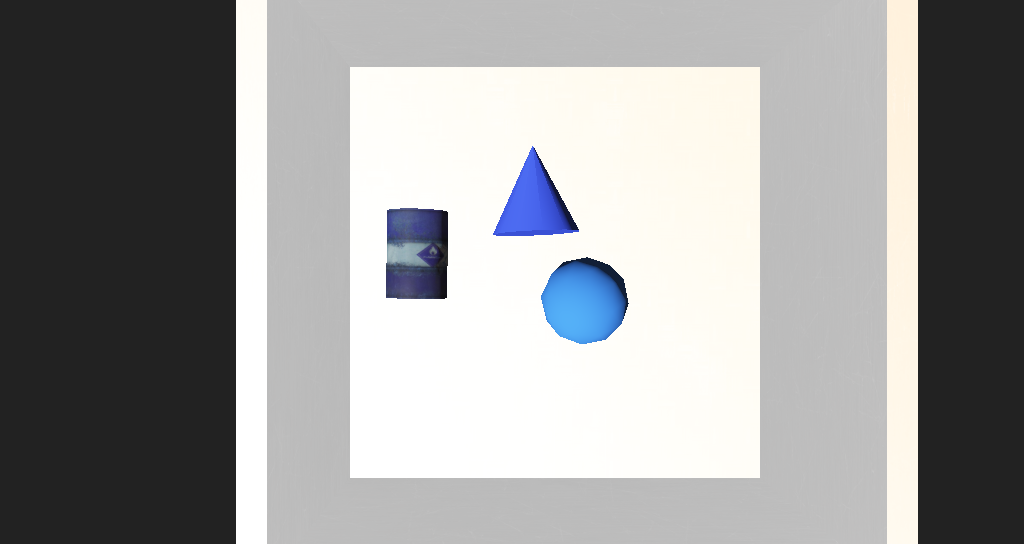cone: (377, 234, 431, 282)
cylinder: (451, 200, 519, 248)
sphere: (492, 258, 559, 305)
